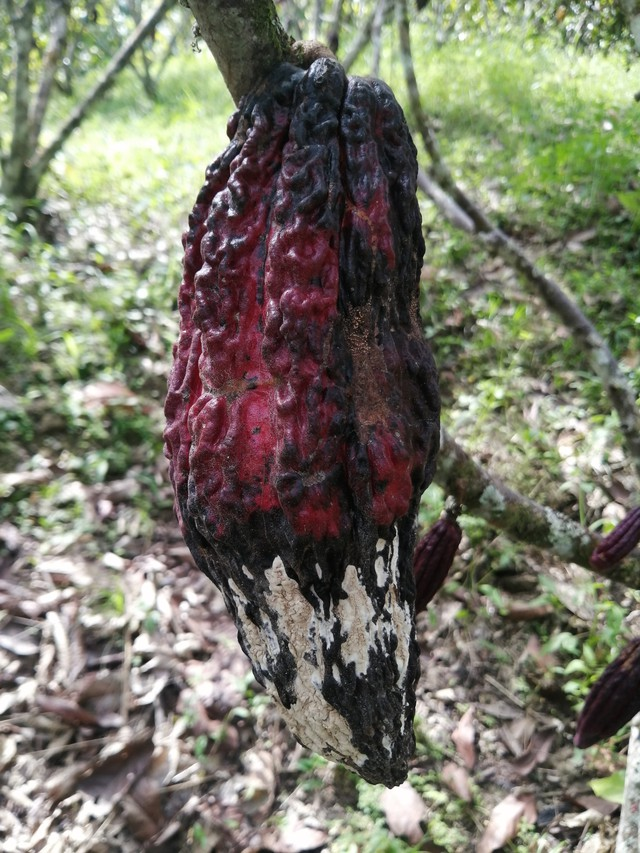moniliophthora roreri: (135, 40, 448, 793)
